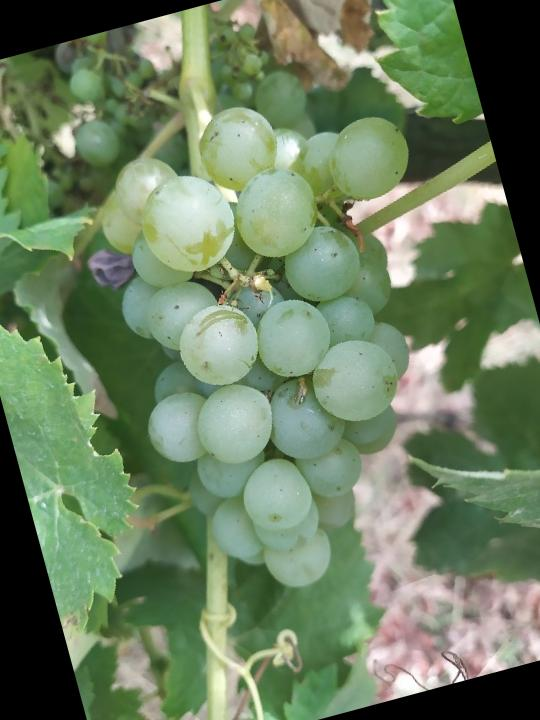grape: (67, 62, 515, 620)
